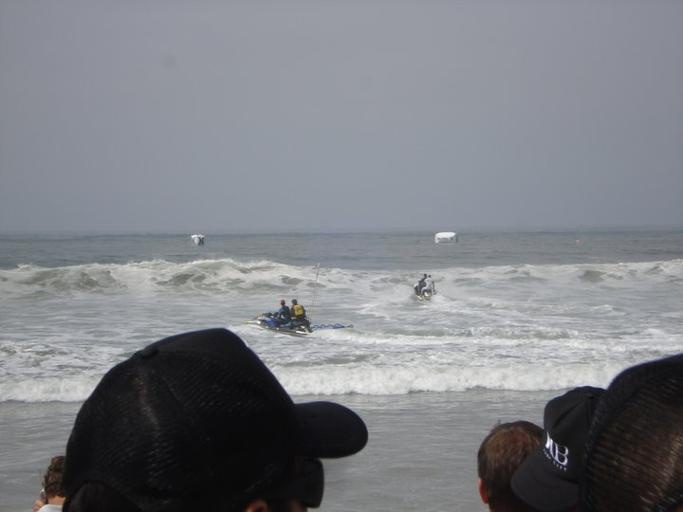non-vehicle: (250, 313, 314, 337), (413, 282, 434, 303)
